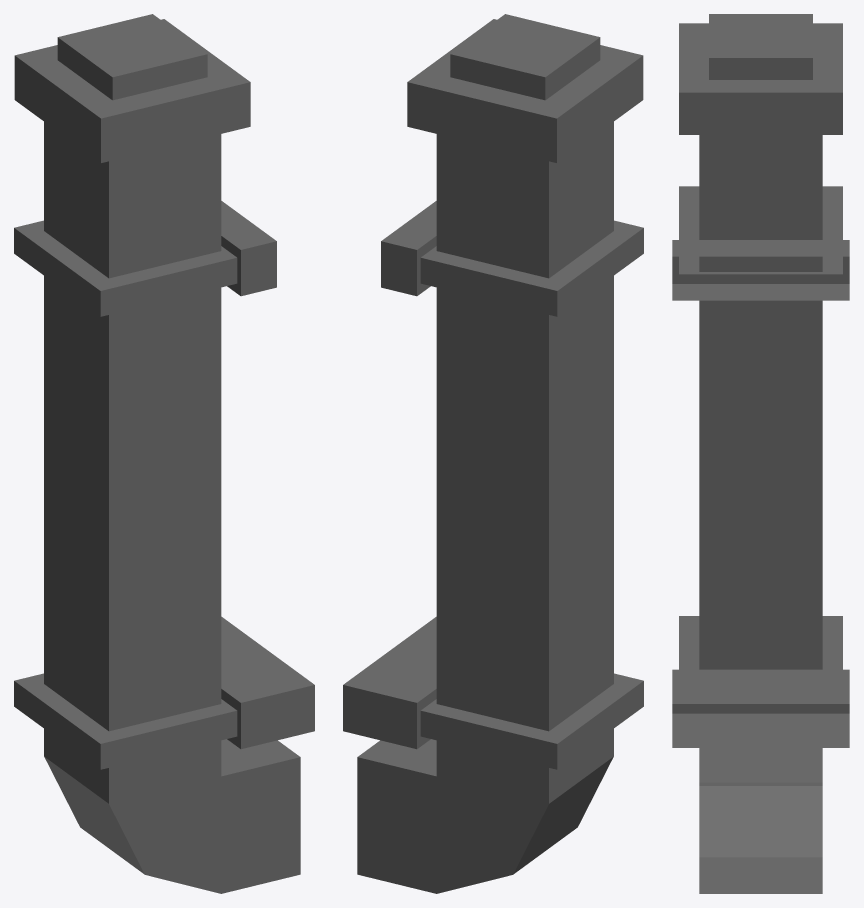
File: SM_VentShaft_short_01.fbx
3 views of the same model, side by side, from view 1: azimuth 30°, elevation 25°; view 2: azimuth 150°, elevation 25°; view 3: azimuth 270°, elevation 25° (orthographic). The views are drawn at different scales.
Parts seen in each view (by area): view 1: SM_VentShaft_short_01; view 2: SM_VentShaft_short_01; view 3: SM_VentShaft_short_01.
Boxes of the visible parts, x1,y1,x2,y2 form: SM_VentShaft_short_01: [14, 14, 314, 893]; SM_VentShaft_short_01: [343, 14, 643, 893]; SM_VentShaft_short_01: [672, 14, 849, 893].
Size of the model in its own units: 1.37 by 5.2 by 1.05.
